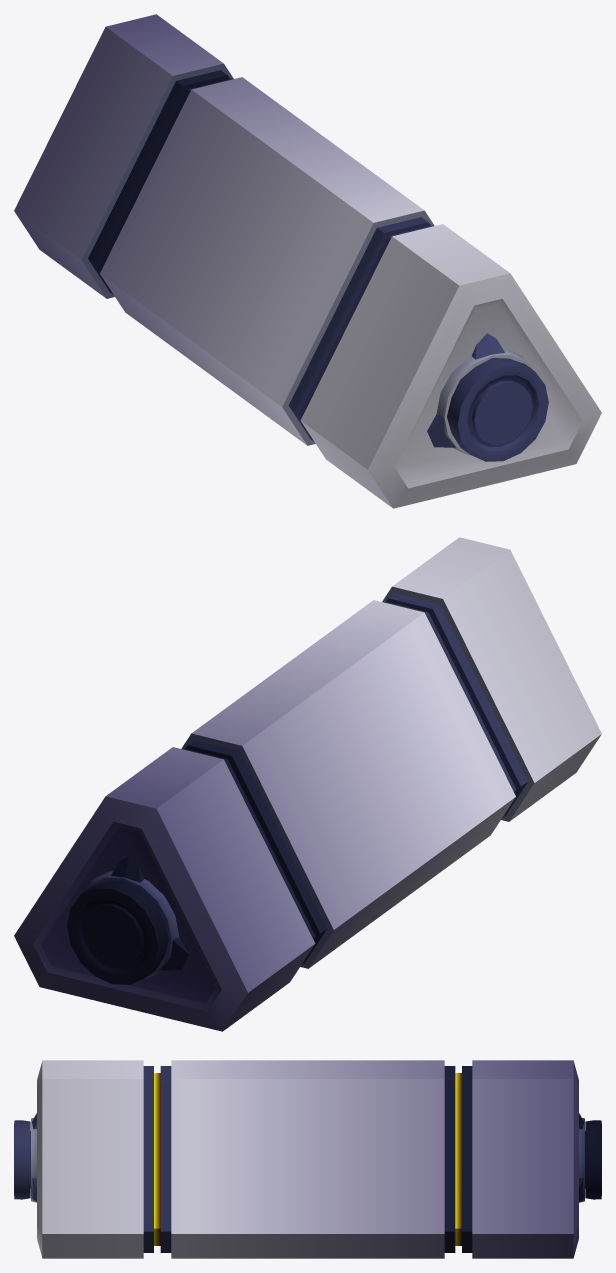
The model's file is CylinderCrate02.fbx.
3 views of the same model, one above another, from view 1: azimuth 30°, elevation 25°; view 2: azimuth 150°, elevation 25°; view 3: azimuth 270°, elevation 25° (orthographic). The views are drawn at different scales.
Parts seen in each view (by area): view 1: C02_SUBD; view 2: C02_SUBD; view 3: C02_SUBD.
Boxes of the visible parts, <box> form: C02_SUBD: <box>14,14,601,508</box>; C02_SUBD: <box>14,537,601,1031</box>; C02_SUBD: <box>14,1060,601,1258</box>.
Bounding box in the file's own units: 657 × 589 × 1905.
1 material, 1 textured.
